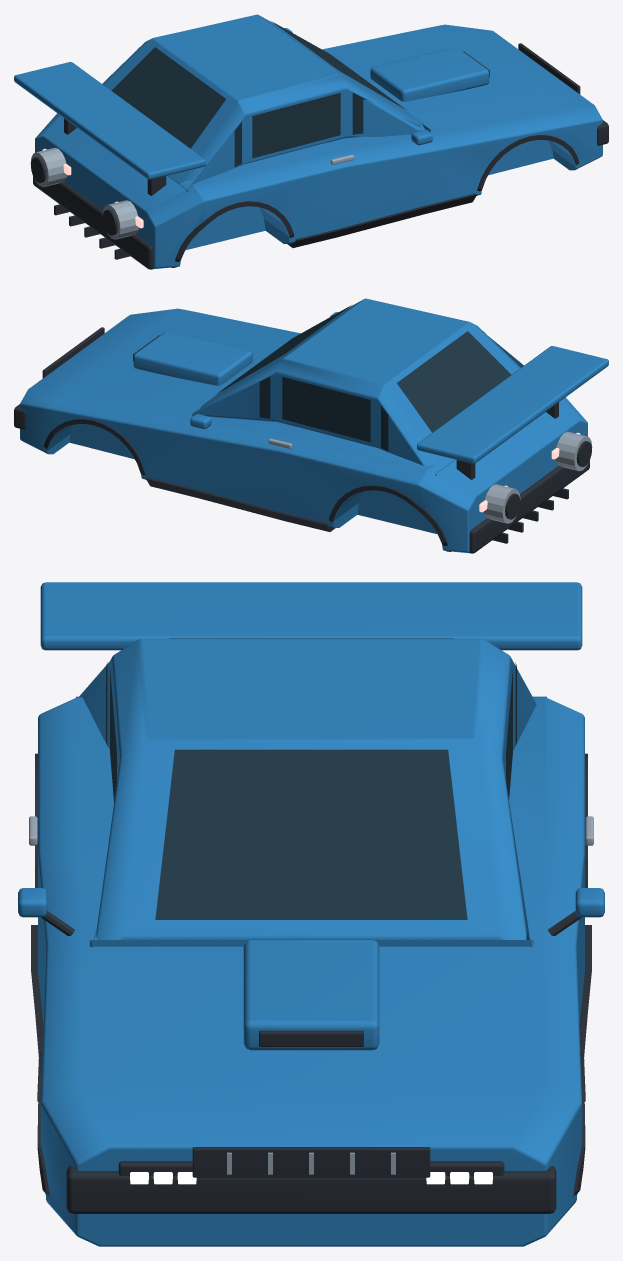
Rendered from viper.glb.
3 renders of one model, top to bottom at view 1: azimuth 30°, elevation 25°; view 2: azimuth 150°, elevation 25°; view 3: azimuth 270°, elevation 25°, orthographic. The views are drawn at different scales.
Visible parts, largest first — view 1: body-paint, body-details; view 2: body-paint, body-details; view 3: body-paint, body-details.
Part boxes in pixels (left/top/right/bottom): body-paint: left=14, top=14, right=602, bottom=269; body-details: left=30, top=21, right=608, bottom=269; body-paint: left=20, top=298, right=608, bottom=553; body-details: left=14, top=305, right=592, bottom=553; body-paint: left=18, top=582, right=604, bottom=1246; body-details: left=29, top=638, right=593, bottom=1213.
Bounding box in the file's own units: 1.39 × 0.39 × 0.7367.
